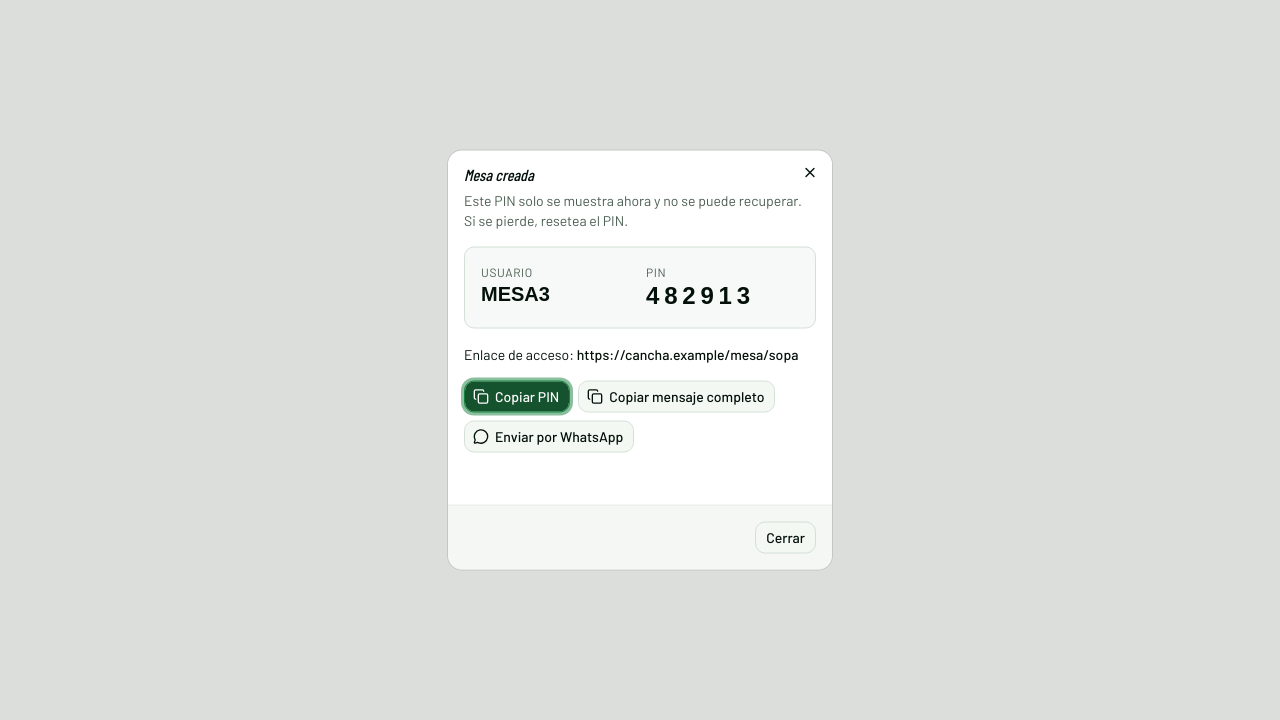
Test: PinDialog › copia el PIN al portapapeles
Click the button "Copiar PIN": (517, 396) [464,380,570,412]
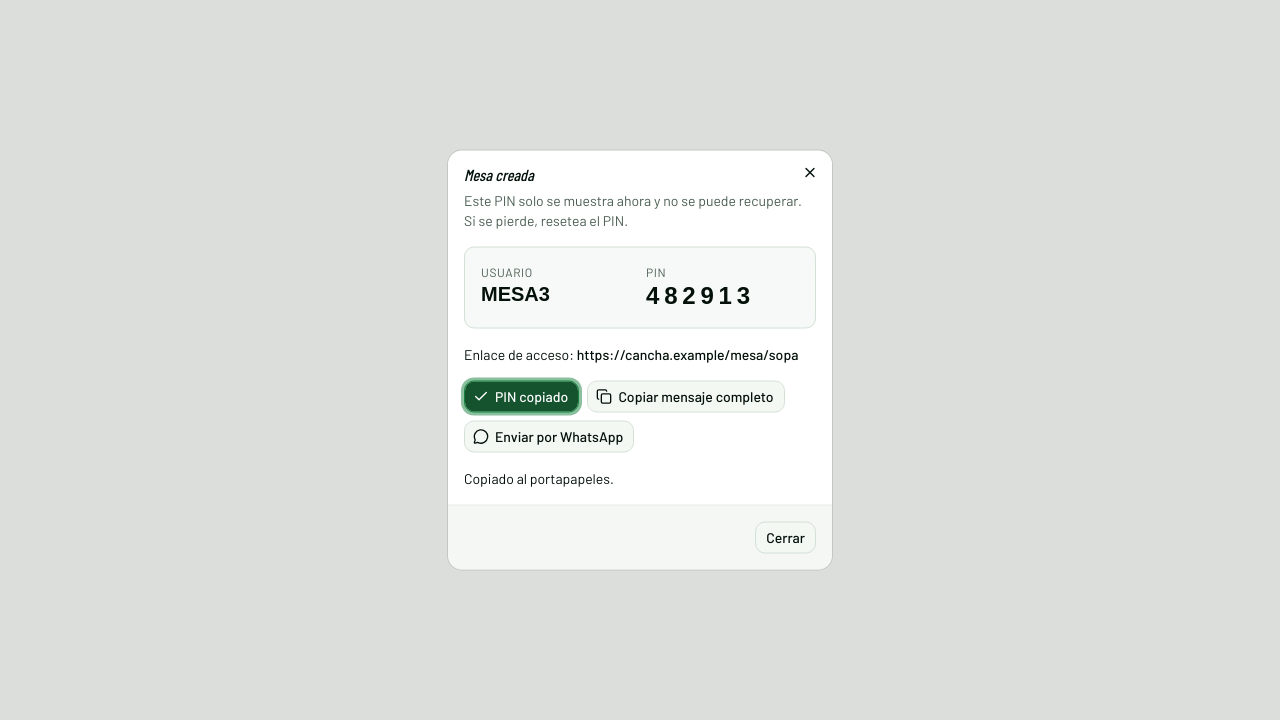
Expected: the text "Copiado al portapapeles." is shown, [464,470,614,486]
